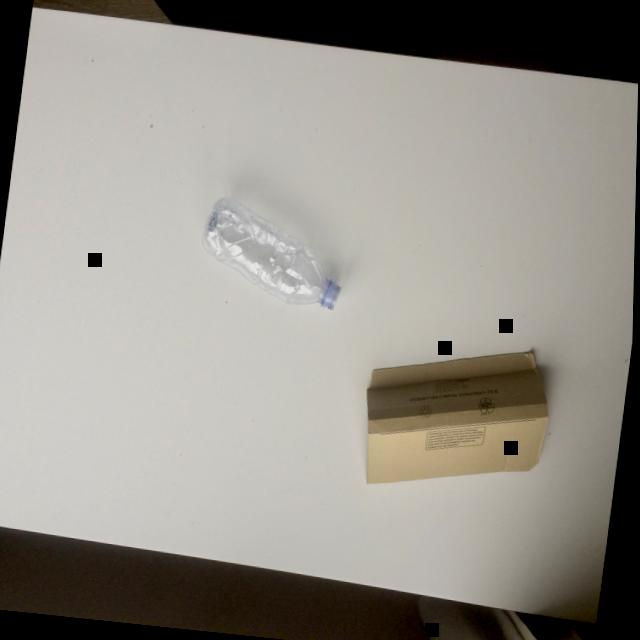Corrugated carton: (367, 352, 549, 482)
Other plastic container: (202, 195, 341, 309)
